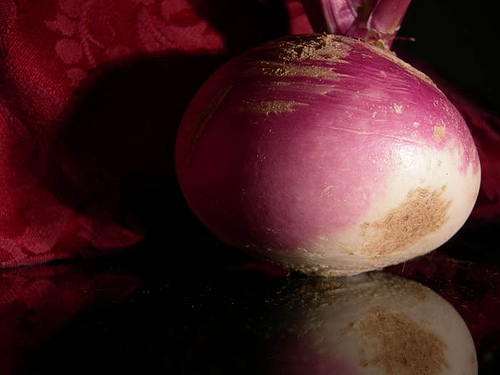turnip: (175, 24, 483, 283)
